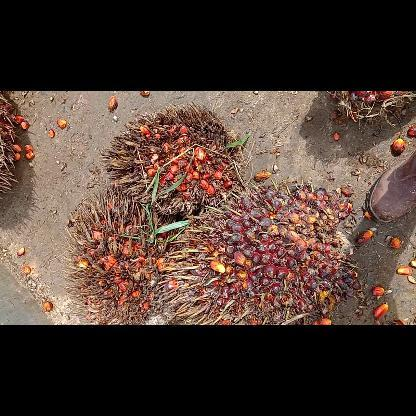TBS masak: (156, 182, 362, 324)
Terlalu masak: (99, 100, 245, 218), (60, 184, 176, 324)
